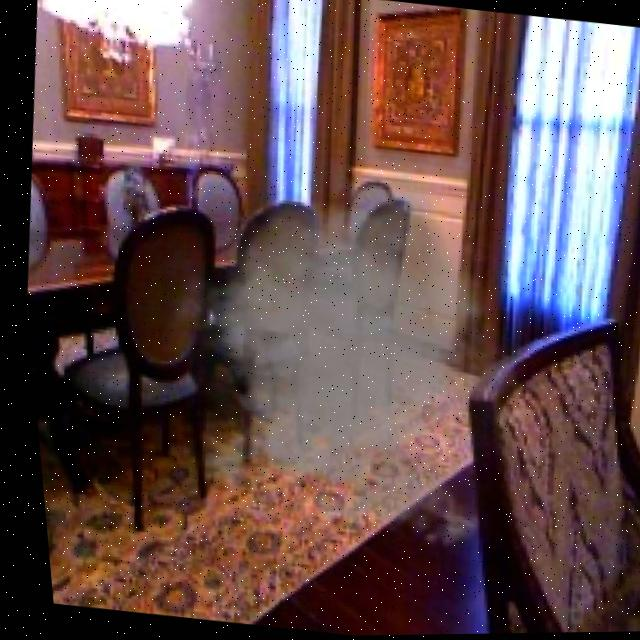Smoke: (136, 141, 544, 568)
